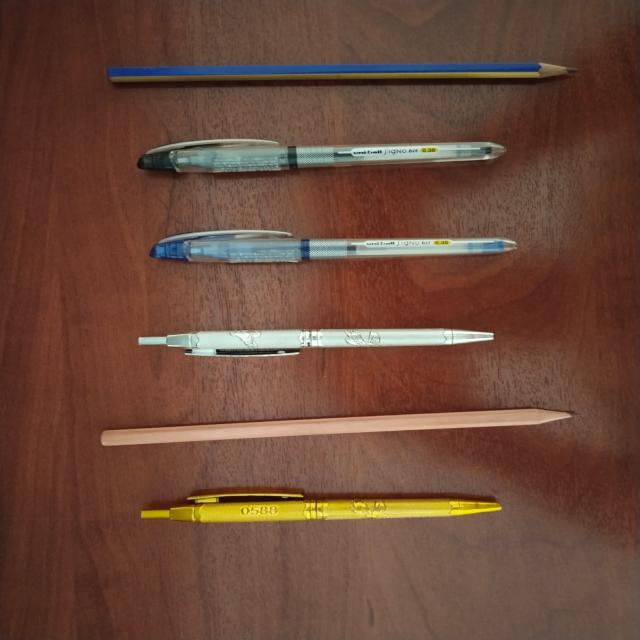pen: (139, 138, 508, 175), (152, 229, 498, 262)
pencil: (98, 411, 574, 450), (114, 64, 570, 82)
signature pen: (148, 492, 507, 524), (143, 326, 494, 356)
